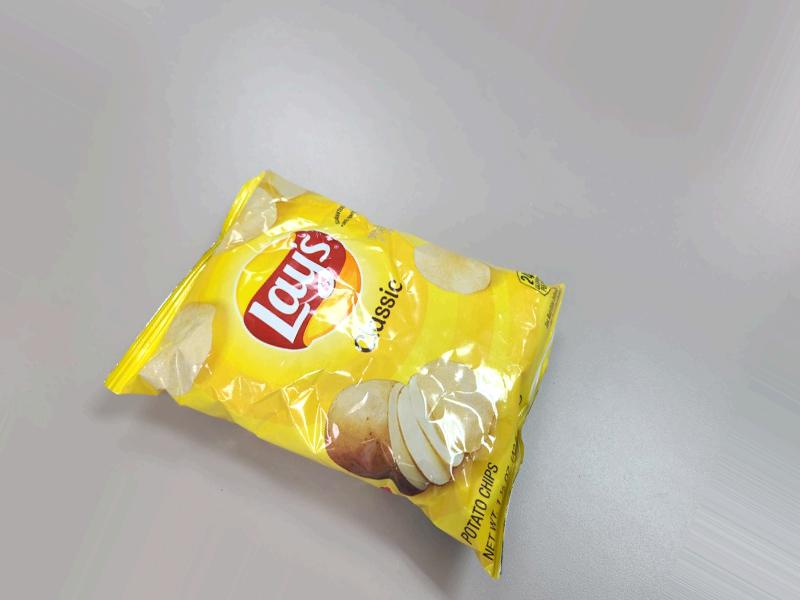lays: (158, 166, 523, 517)
